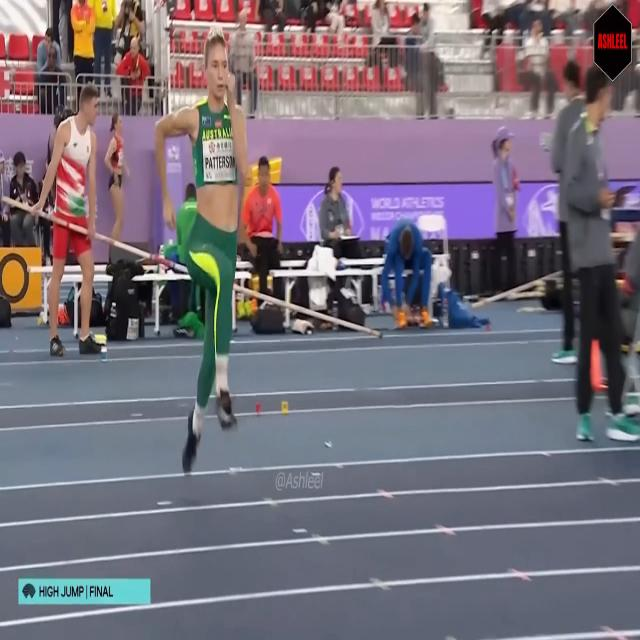run: (156, 23, 248, 474)
